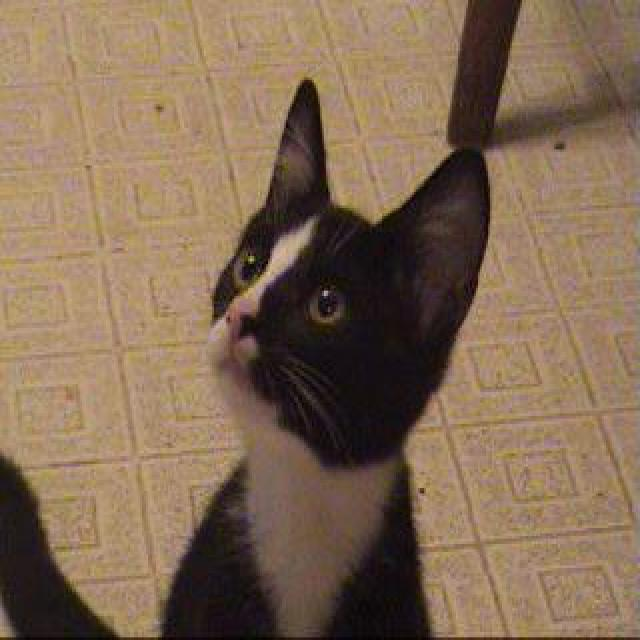Cats: (0, 75, 490, 637)
